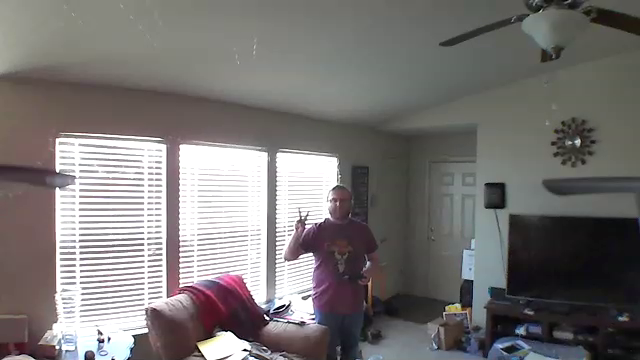peace: (290, 205, 314, 236)
